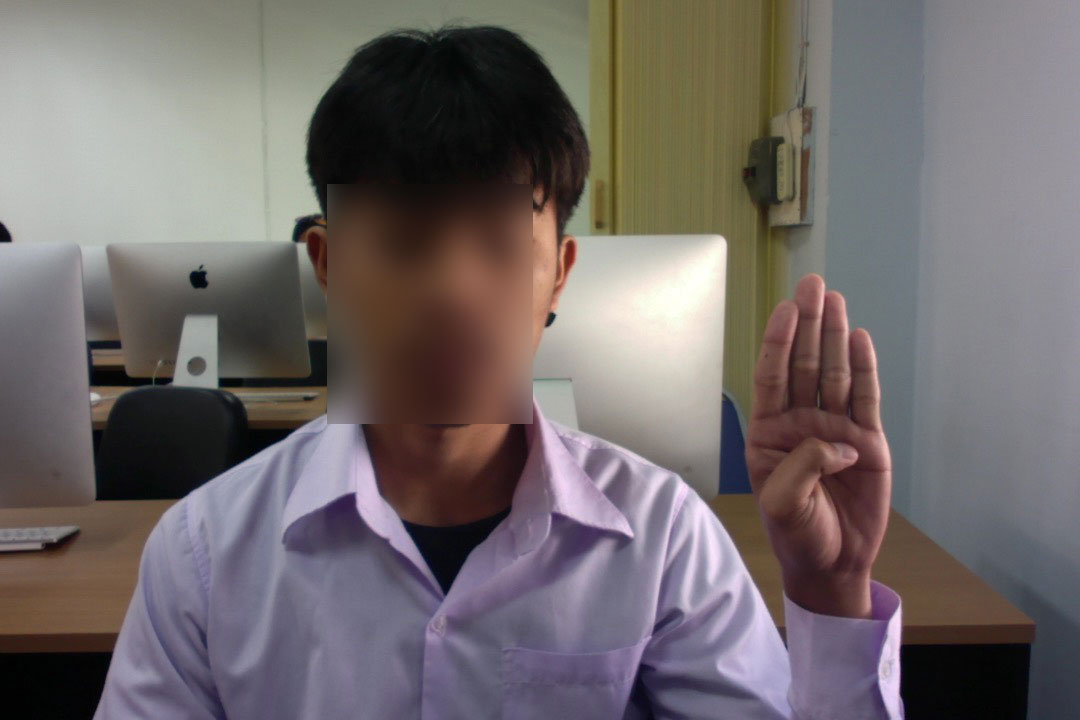bor: (734, 267, 900, 623)
